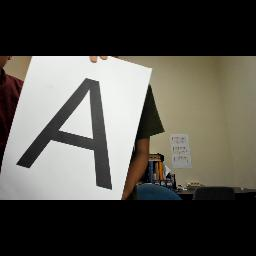a: (10, 73, 128, 195)
